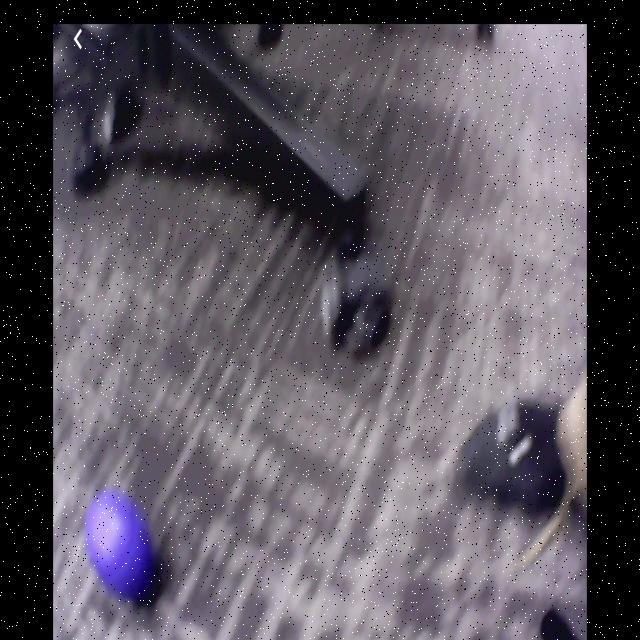ball: (87, 493, 155, 604)
